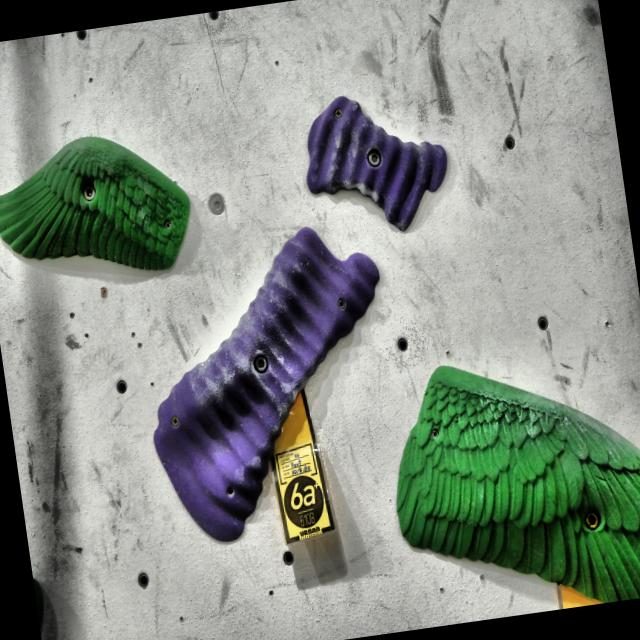Hold: (126, 206, 408, 574), (366, 319, 640, 631), (0, 114, 193, 291), (300, 51, 448, 240)
